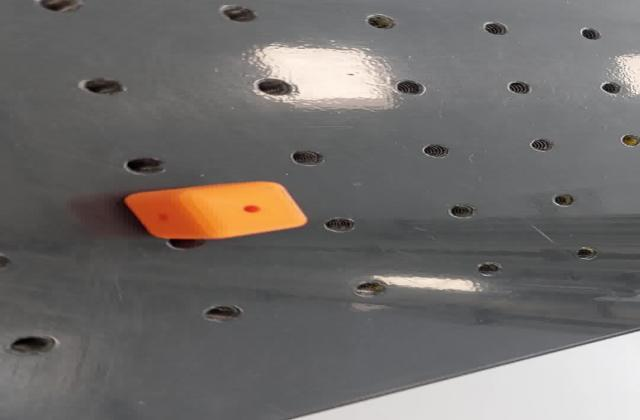cube: (114, 180, 314, 241)
